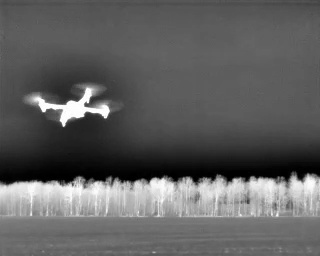DRONE: (26, 76, 132, 136)
